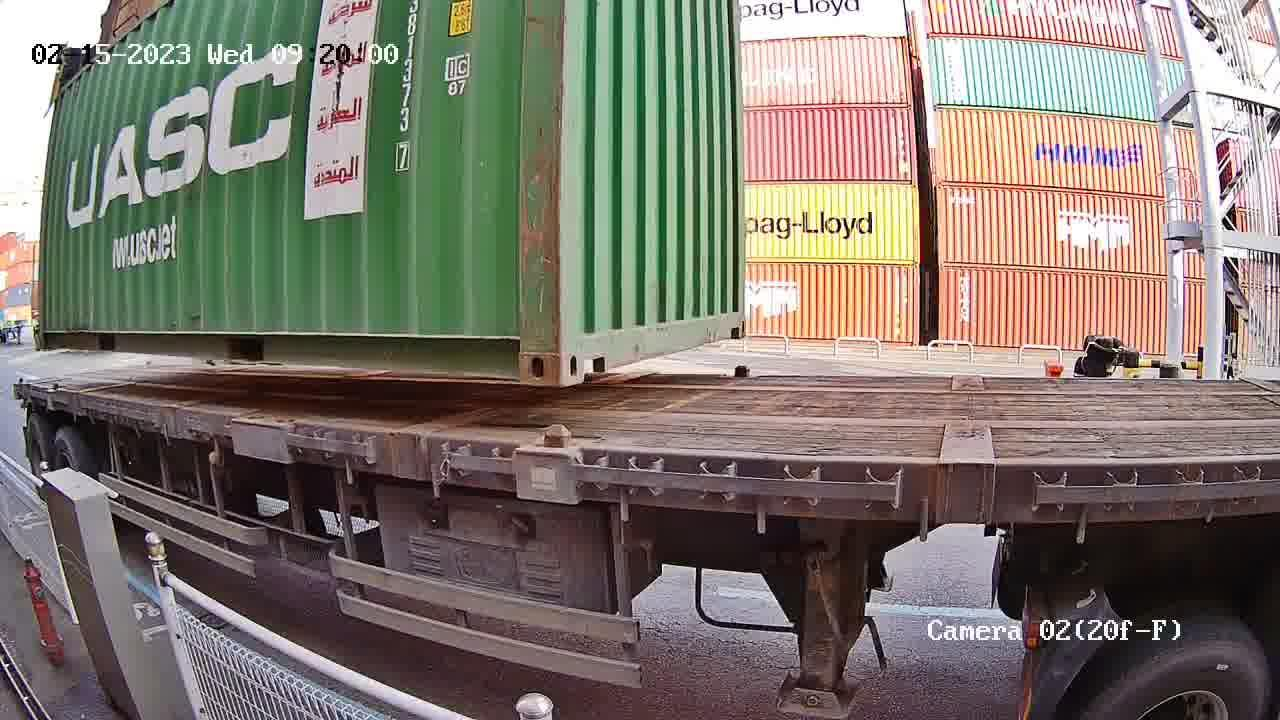Cone: (542, 420, 573, 447), (730, 363, 750, 380)
Hole_L: (561, 310, 607, 388)
Hole_R: (489, 313, 562, 386), (718, 297, 749, 340)
